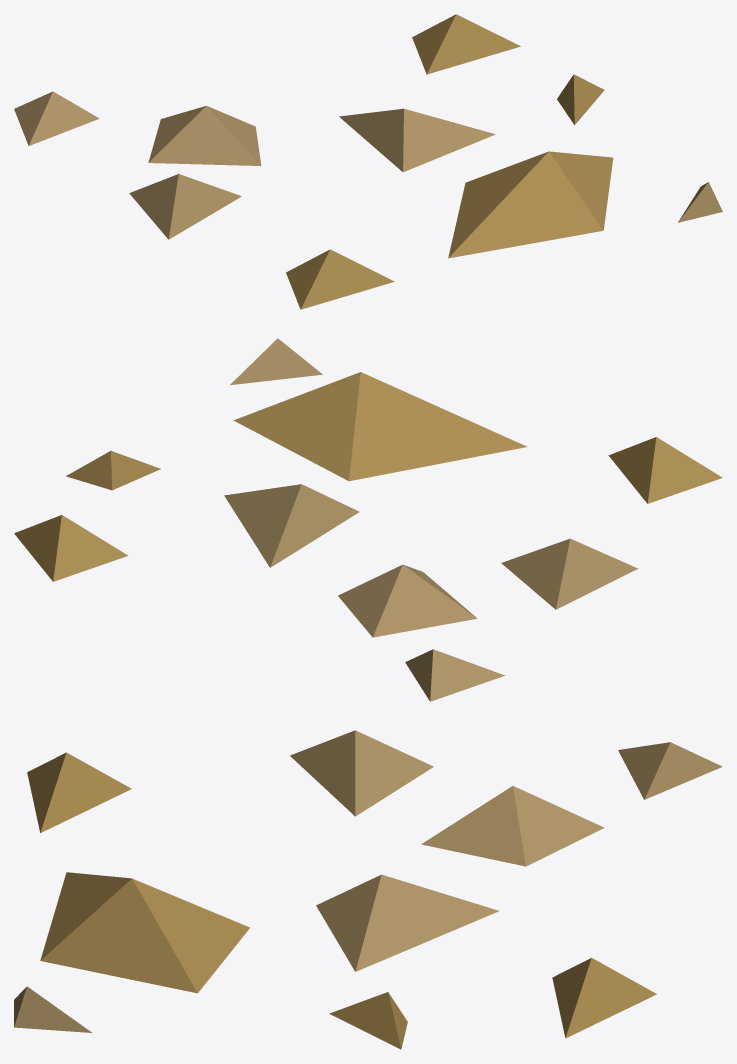
The picture shows the model from 3 angles, top to bottom: view 1: azimuth 30°, elevation 25°; view 2: azimuth 150°, elevation 25°; view 3: azimuth 270°, elevation 25°; orthographic projection. The views are drawn at different scales.
Bounding box in the file's own units: 108 × 12 × 108.
1 material, 1 textured.
